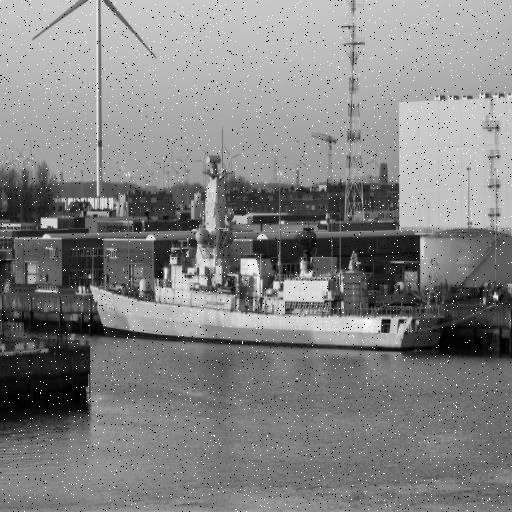Fragata: (85, 153, 447, 358)
